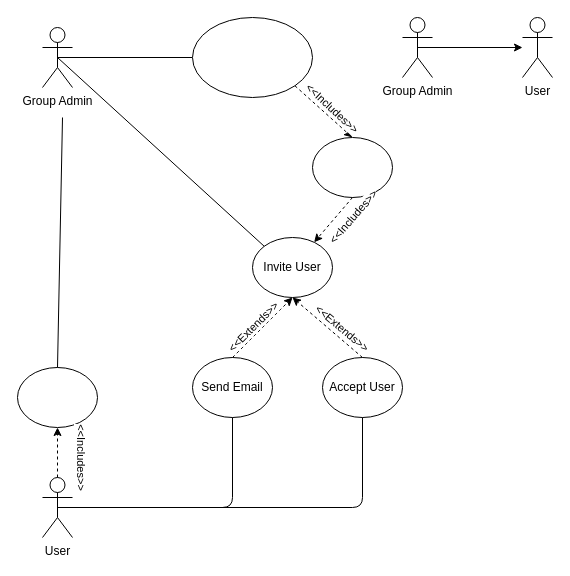
Some shapes in this 570 by 576 pixel diagram are drawn without their labels. The centre of each missing label's shape, as x and y in pixels:
"BitWarden Organization" belongs at point 252,57.
"Fingerprint Phrase" belongs at point 57,397.
"Manage" belongs at point 352,167.
